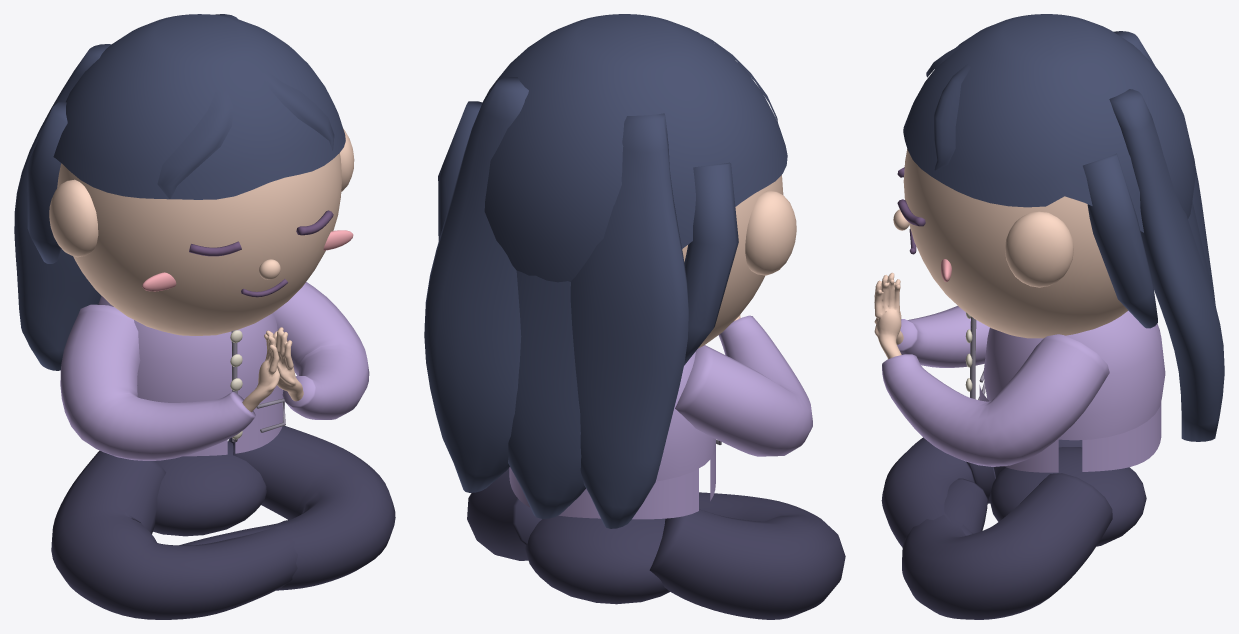
Rendered from meditator_female_cross_prayer_p05c.glb.
3 views of the same model, side by side, from view 1: azimuth 30°, elevation 25°; view 2: azimuth 150°, elevation 25°; view 3: azimuth 270°, elevation 25° (orthographic). The views are drawn at different scales.
Visible parts, largest first — view 1: hair_blue_black_UpperBodyBreath_object, ao_ba_ba_pants_SeatRoot_object, skin_rose_cream_UpperBodyBreath_object, ao_ba_ba_top_UpperBodyBreath_object, eyes_mauve_UpperBodyBreath_object, skin_blush_UpperBodyBreath_object; view 2: hair_blue_black_UpperBodyBreath_object, ao_ba_ba_pants_SeatRoot_object, ao_ba_ba_top_UpperBodyBreath_object, skin_rose_cream_UpperBodyBreath_object; view 3: hair_blue_black_UpperBodyBreath_object, ao_ba_ba_top_UpperBodyBreath_object, ao_ba_ba_pants_SeatRoot_object, skin_rose_cream_UpperBodyBreath_object, ao_ba_ba_placket_UpperBodyBreath_object, eyes_mauve_UpperBodyBreath_object.
Part boxes in pixels (x1,y1,x2,y2): hair_blue_black_UpperBodyBreath_object: [14, 14, 345, 370]; ao_ba_ba_pants_SeatRoot_object: [51, 425, 395, 619]; skin_rose_cream_UpperBodyBreath_object: [49, 129, 354, 412]; ao_ba_ba_top_UpperBodyBreath_object: [60, 282, 369, 460]; eyes_mauve_UpperBodyBreath_object: [189, 210, 333, 297]; skin_blush_UpperBodyBreath_object: [142, 230, 353, 291]; hair_blue_black_UpperBodyBreath_object: [424, 14, 787, 528]; ao_ba_ba_pants_SeatRoot_object: [467, 468, 845, 619]; ao_ba_ba_top_UpperBodyBreath_object: [509, 315, 812, 519]; skin_rose_cream_UpperBodyBreath_object: [682, 175, 796, 348]; hair_blue_black_UpperBodyBreath_object: [903, 14, 1224, 441]; ao_ba_ba_top_UpperBodyBreath_object: [882, 306, 1165, 472]; ao_ba_ba_pants_SeatRoot_object: [881, 437, 1146, 619]; skin_rose_cream_UpperBodyBreath_object: [874, 149, 1127, 359]; ao_ba_ba_placket_UpperBodyBreath_object: [970, 317, 985, 400]; eyes_mauve_UpperBodyBreath_object: [897, 167, 925, 254].
Size of the model in its own units: 0.7292 by 1.16 by 0.6886.
